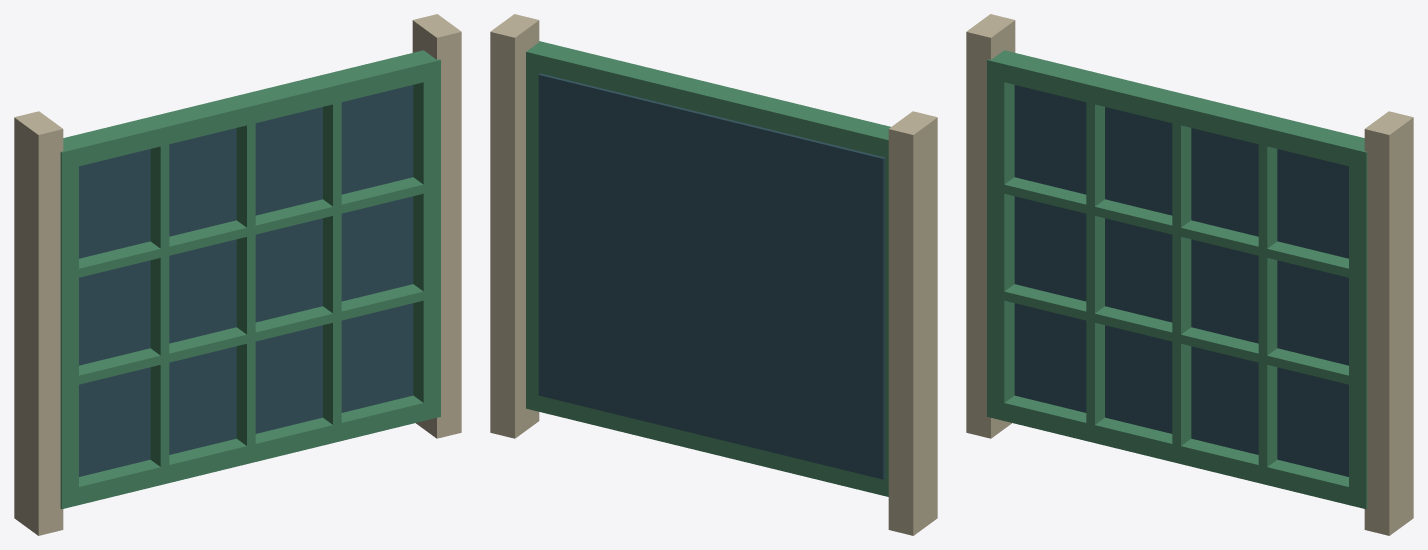
File: window_37.glb
The picture shows the model from 3 angles, left to right: view 1: azimuth 30°, elevation 25°; view 2: azimuth 150°, elevation 25°; view 3: azimuth 330°, elevation 25°; orthographic projection.
Visible parts, largest first — view 1: window_37; view 2: window_37; view 3: window_37.
Boxes of the visible parts, <box> form: window_37: <box>14,14,461,535</box>; window_37: <box>490,14,937,535</box>; window_37: <box>966,14,1413,535</box>.
Bounding box in the file's own units: 2.21 × 2 × 0.23.
